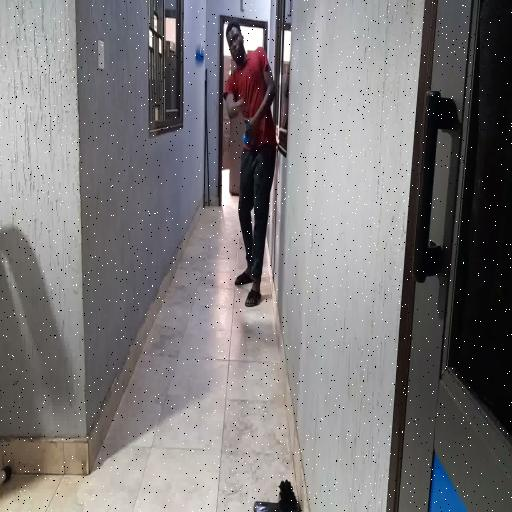plastic-ball: (194, 41, 206, 69)
